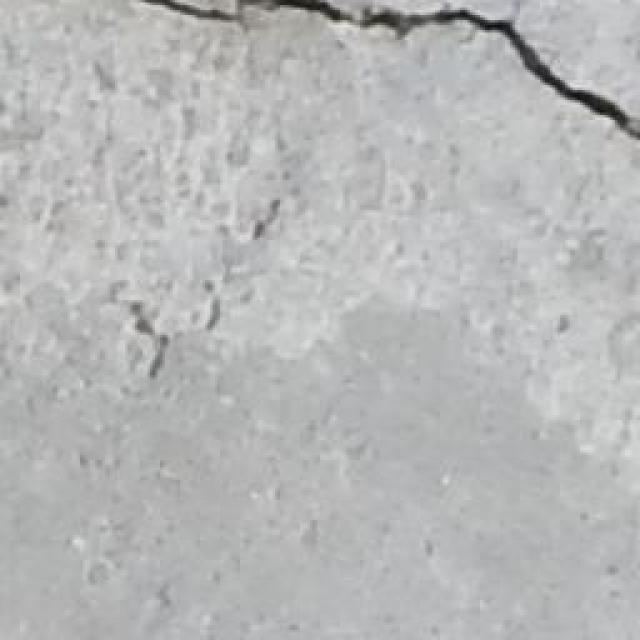concrete-crack: (141, 0, 638, 143)
